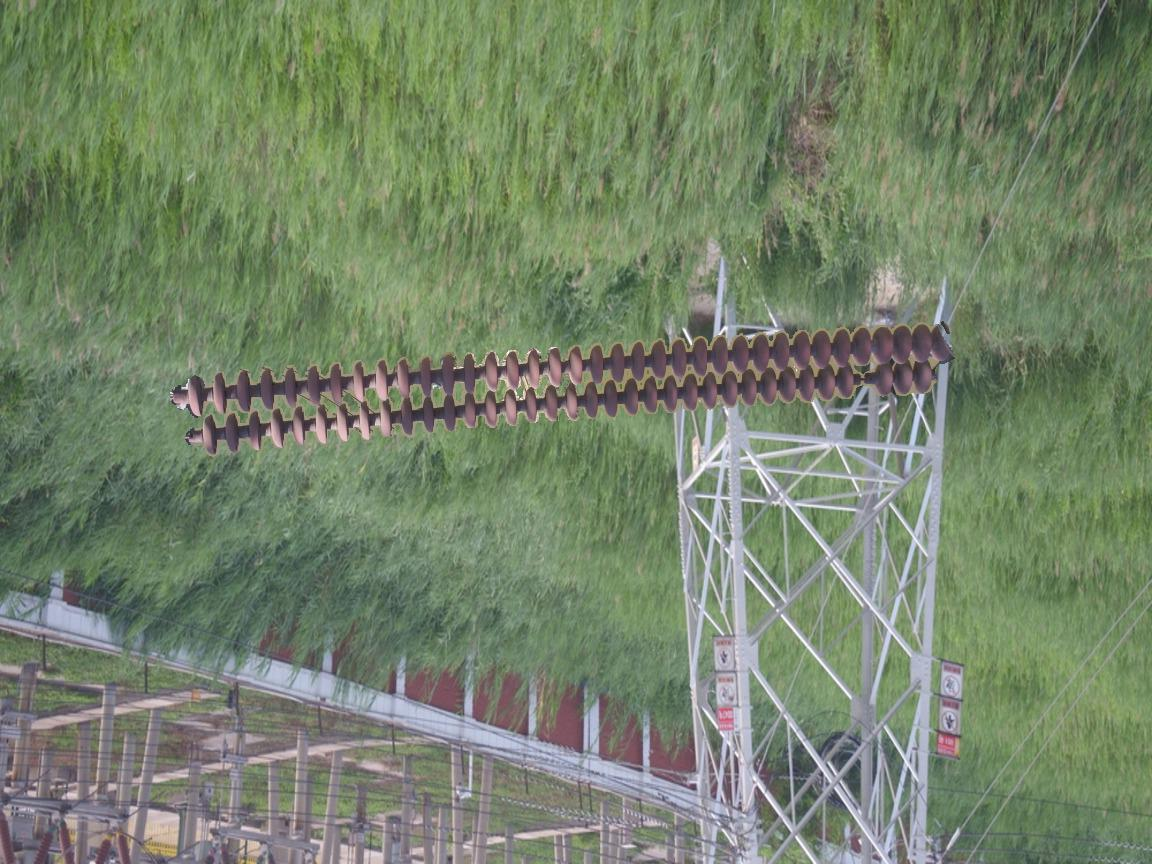insulator: (178, 317, 956, 461)
insulator_stringdrop: (834, 360, 895, 403)
